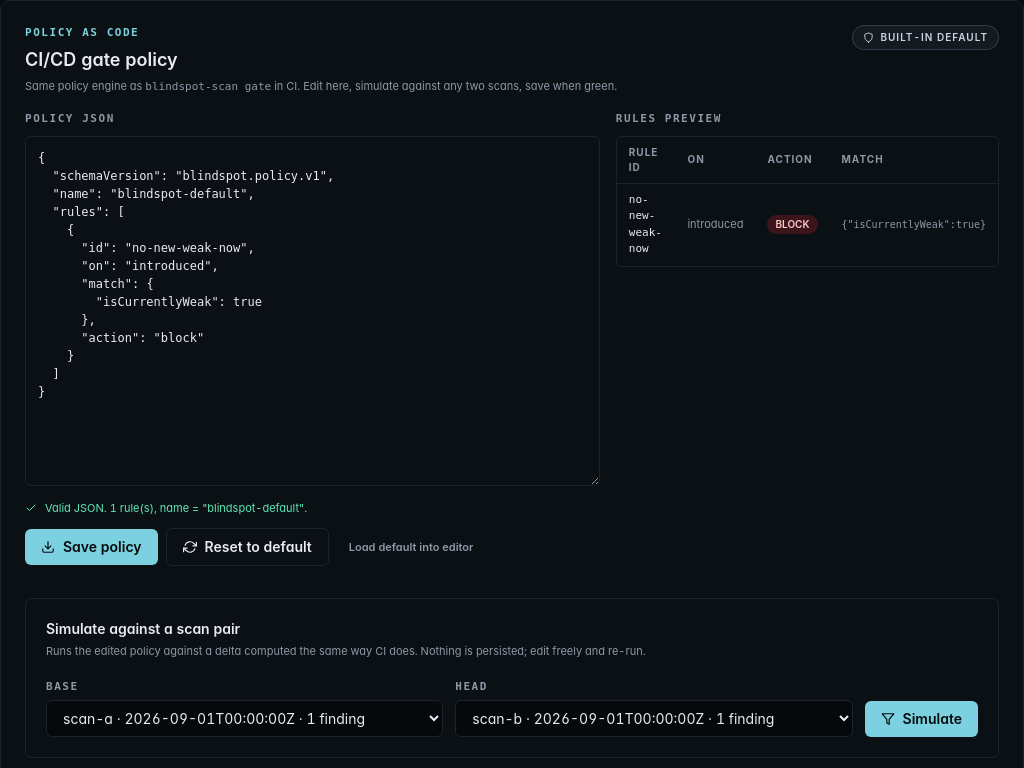
Scenario: PolicyEditor › simulate posts base+head+policy and renders the verdict
This screenshot has width=1024, height=768.
Wait for editor + scan list to load and Simulate button to appear.
Click the button with test id "policy-sim-run" at (921, 718), box x1=865 y1=700 x2=978 y2=736
(page scrolled)
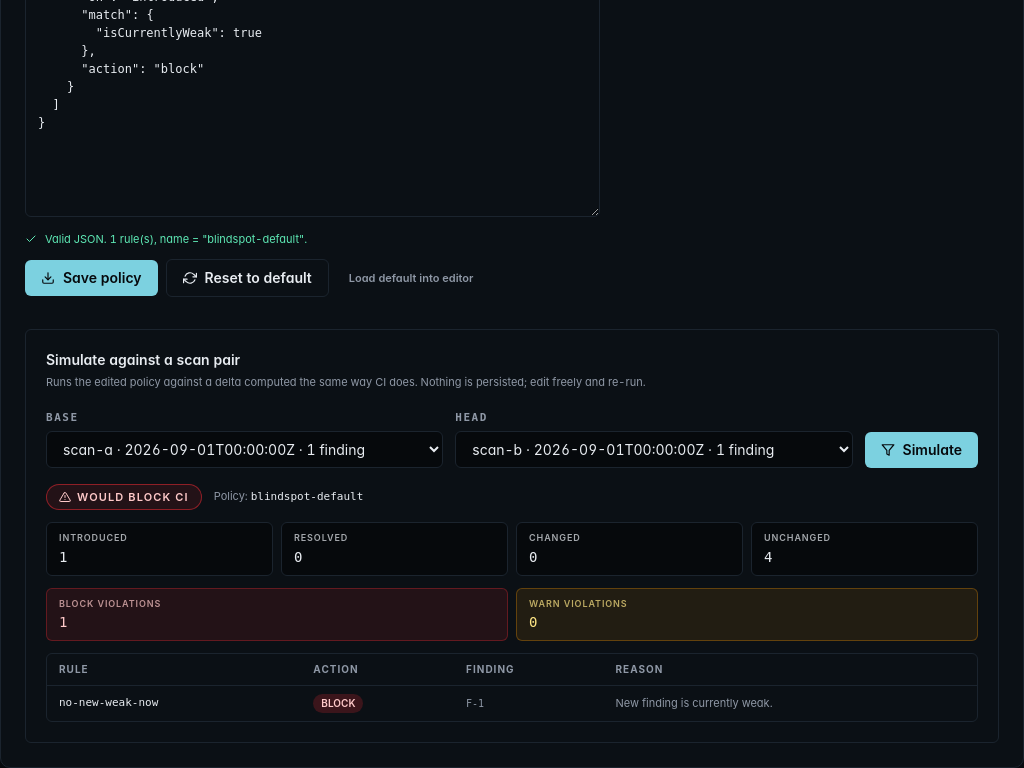
Expected: the element with test id "policy-sim-verdict" shows "Would block", x1=77 y1=490 x2=189 y2=504
Expected: the table with test id "policy-sim-violations-tbody" shows "no-new-weak-now", x1=59 y1=696 x2=158 y2=709
Expected: the table with test id "policy-sim-violations-tbody" shows "currently weak", x1=616 y1=696 x2=773 y2=710
